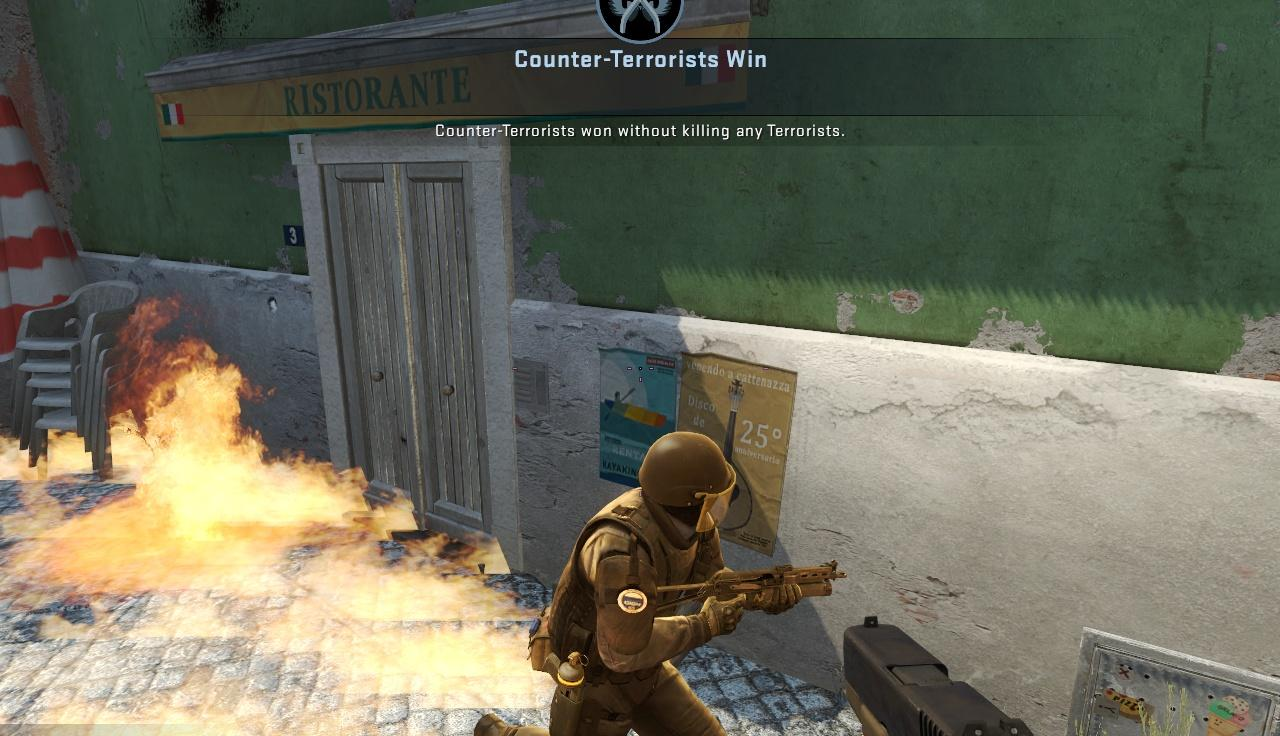ct: (543, 432, 737, 736)
cthead: (636, 432, 736, 532)
pistol: (839, 612, 1044, 736)
